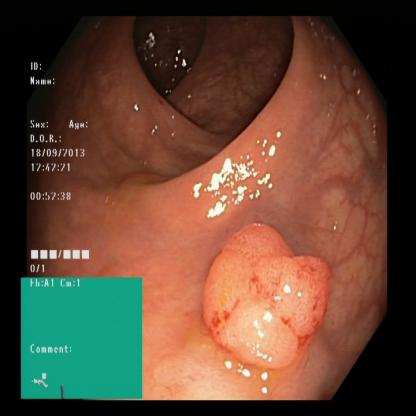Labels: (29, 59, 102, 275), (22, 278, 143, 400)
Polyps: (202, 219, 341, 368)
